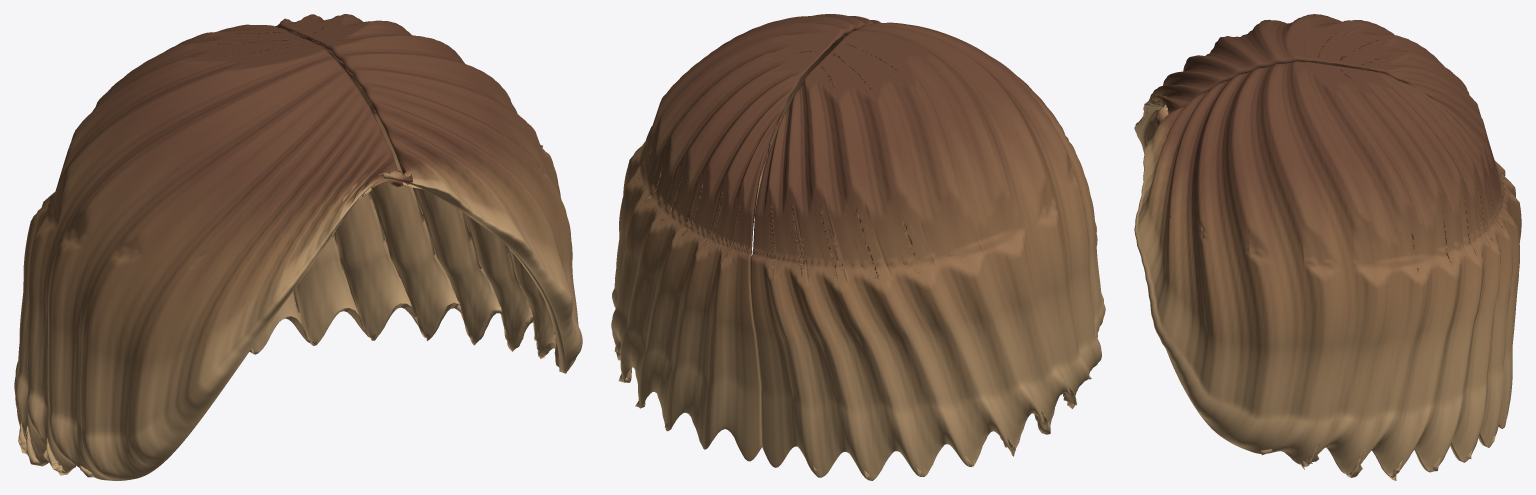
Rendered from Ombre-ce08f81a1451253-hair.glb.
The picture shows the model from 3 angles, left to right: view 1: azimuth 30°, elevation 25°; view 2: azimuth 150°, elevation 25°; view 3: azimuth 270°, elevation 25°; orthographic projection. The views are drawn at different scales.
Parts seen in each view (by area): view 1: 226 hair / Hair252 / flowing sculpt flow.001; view 2: 226 hair / Hair252 / flowing sculpt flow.001; view 3: 226 hair / Hair252 / flowing sculpt flow.001.
Boxes of the visible parts, box(x1,y1,x2,y2) form: 226 hair / Hair252 / flowing sculpt flow.001: box(14, 14, 582, 480); 226 hair / Hair252 / flowing sculpt flow.001: box(611, 14, 1105, 480); 226 hair / Hair252 / flowing sculpt flow.001: box(1134, 14, 1521, 480).
Bounding box in the file's own units: 1.11 × 0.8485 × 0.8447.
Materials: 1 (1 with a texture image).
